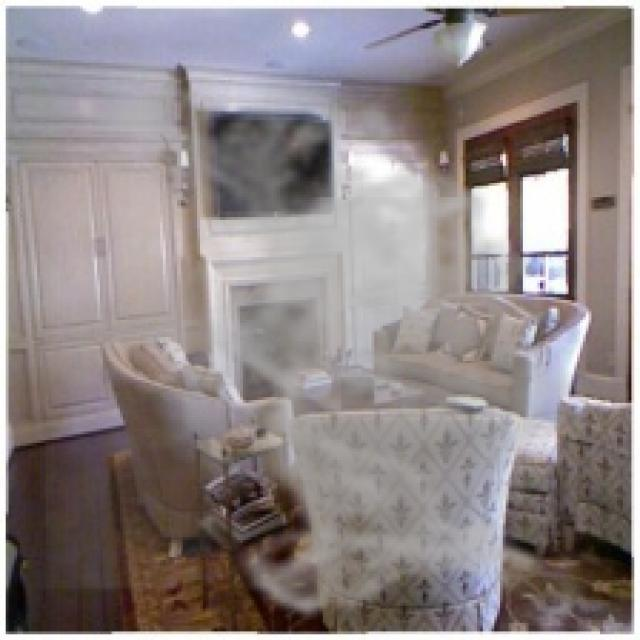Smoke: (46, 65, 612, 626)
